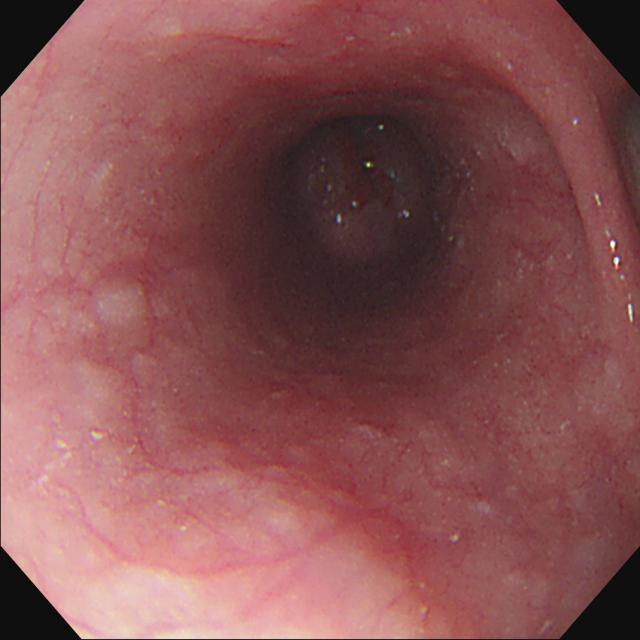I: (297, 104, 438, 268)
U: (605, 231, 640, 328)
